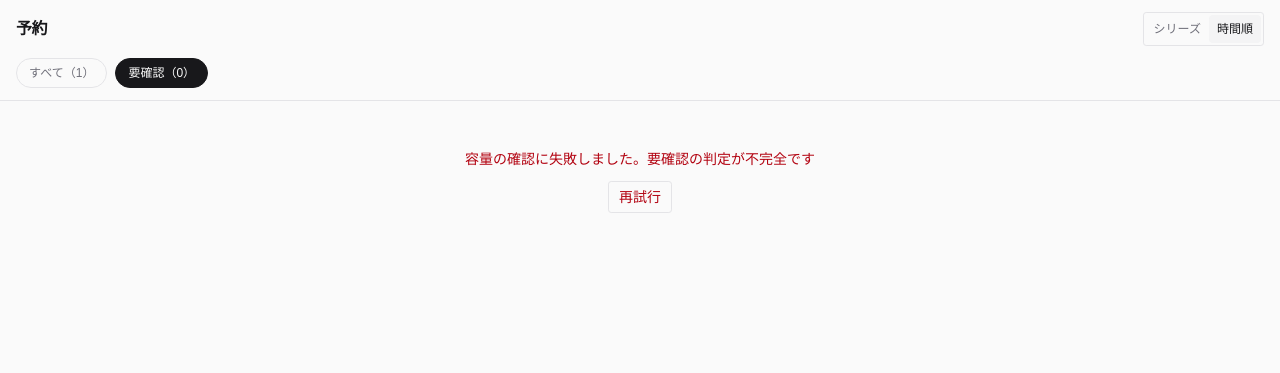
Scenario: 予約一覧の要確認フィルタ › 容量の初回取得が失敗したら要確認なしを確定せず、理由と再試行を示す
expect the text "容量の確認に失敗しました。要確認の判定が不完全です" is shown: met, box [465,149,815,169]
expect the button "再試行" is shown: met, box [608,181,672,213]
Click the button "すべて（1）" at (62,73), box [16,58,107,88]
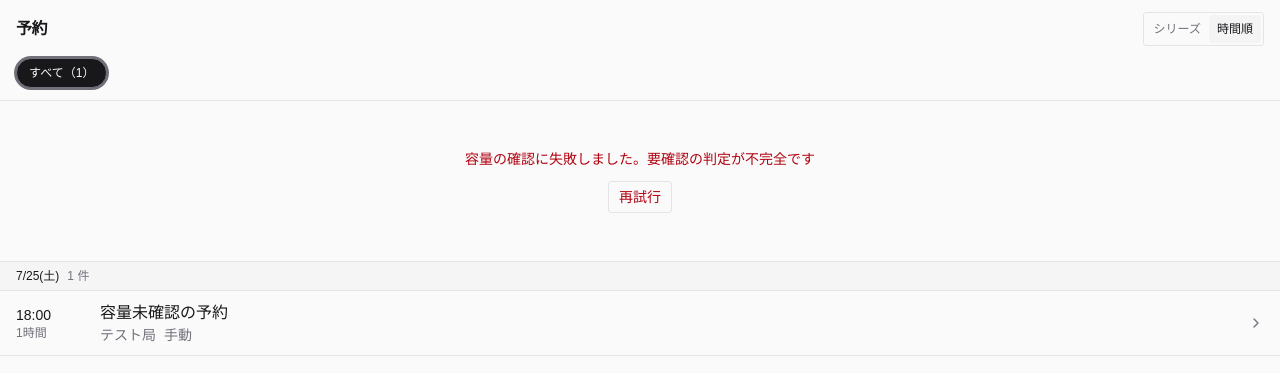
expect the text "容量未確認の予約" is shown: met, box [100,304,228,321]
